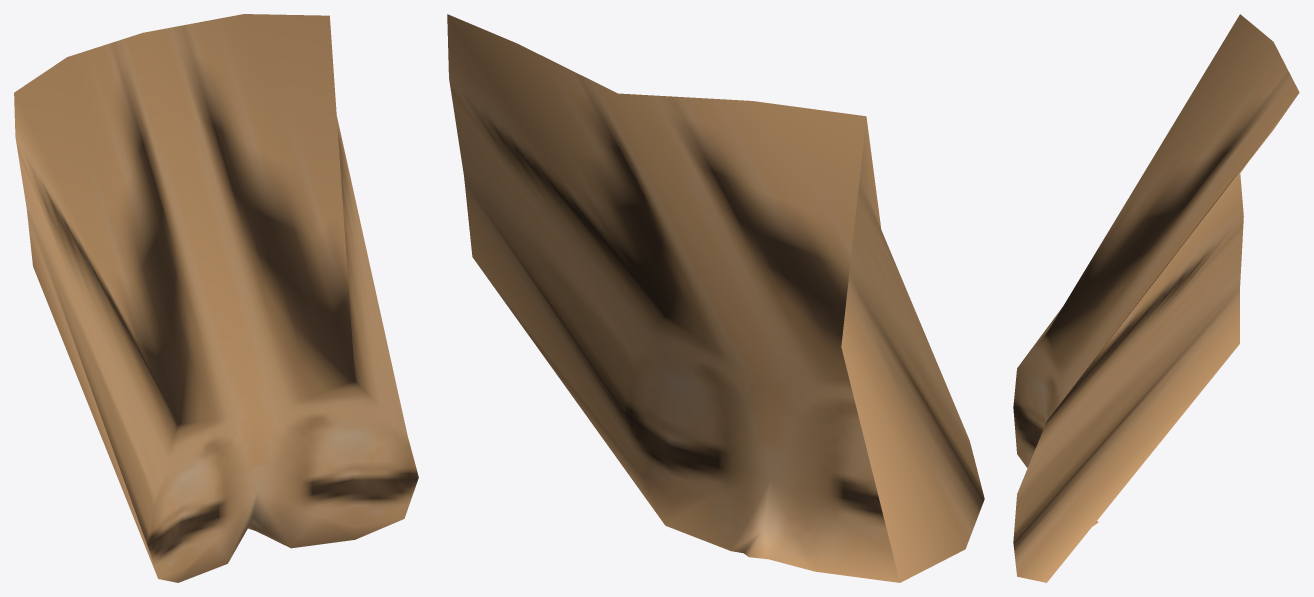
Rendered from batch_0016.obj.
3 views of the same model, side by side, from view 1: azimuth 30°, elevation 25°; view 2: azimuth 150°, elevation 25°; view 3: azimuth 270°, elevation 25° (orthographic). The views are drawn at different scales.
Visible parts, largest first — view 1: batch_0016; view 2: batch_0016; view 3: batch_0016.
Boxes of the visible parts, x1,y1,x2,y2 form: batch_0016: [14, 14, 418, 582]; batch_0016: [447, 14, 984, 582]; batch_0016: [1013, 14, 1299, 582].
Bounding box in the file's own units: 25 × 33.63 × 19.25.
1 material, 1 textured.
